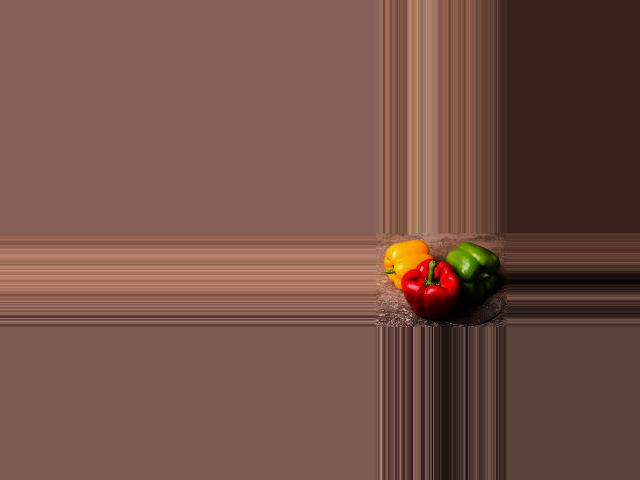bell_pepper: (384, 237, 429, 290)
